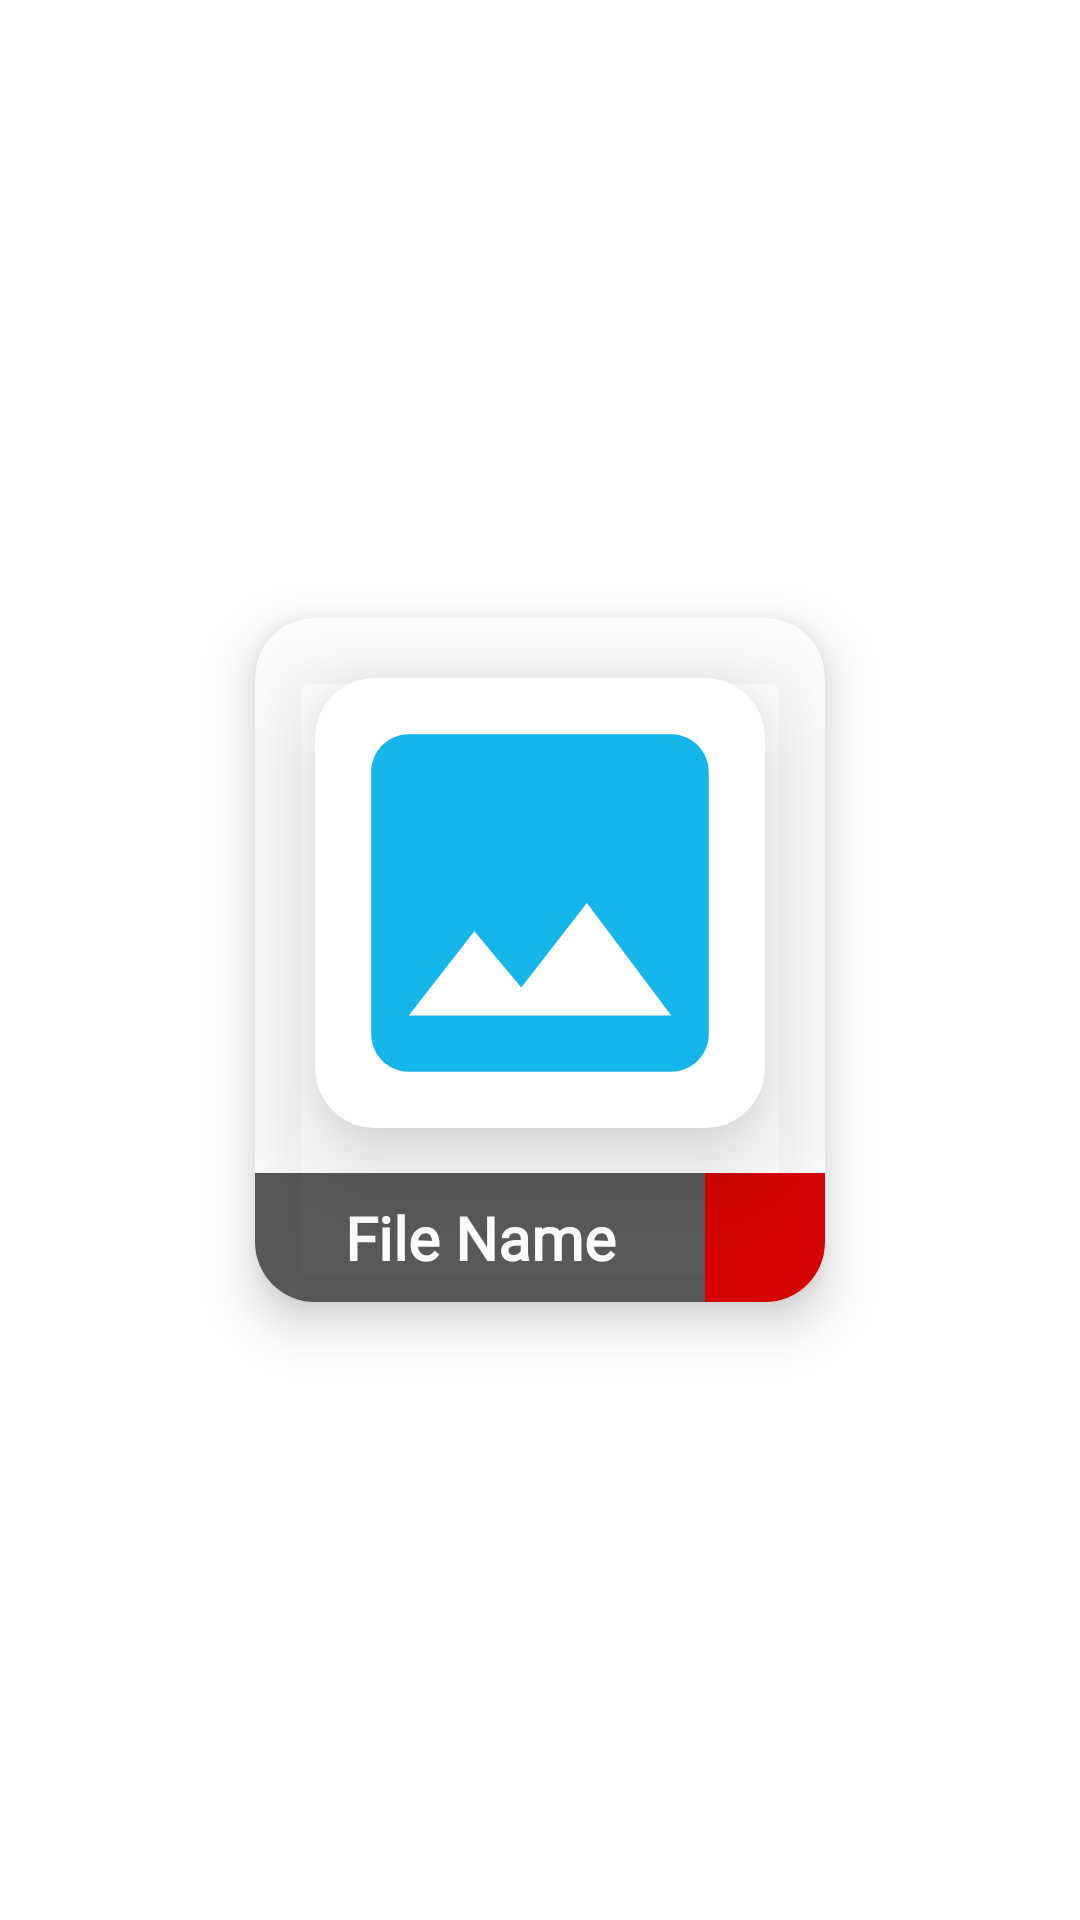

Icon click points for this 1080px×1920px phone screenshot, format [x,y]:
imageicon: [540,903]
